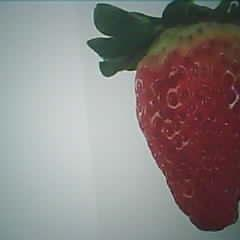straw-ripe: (135, 19, 240, 232)
